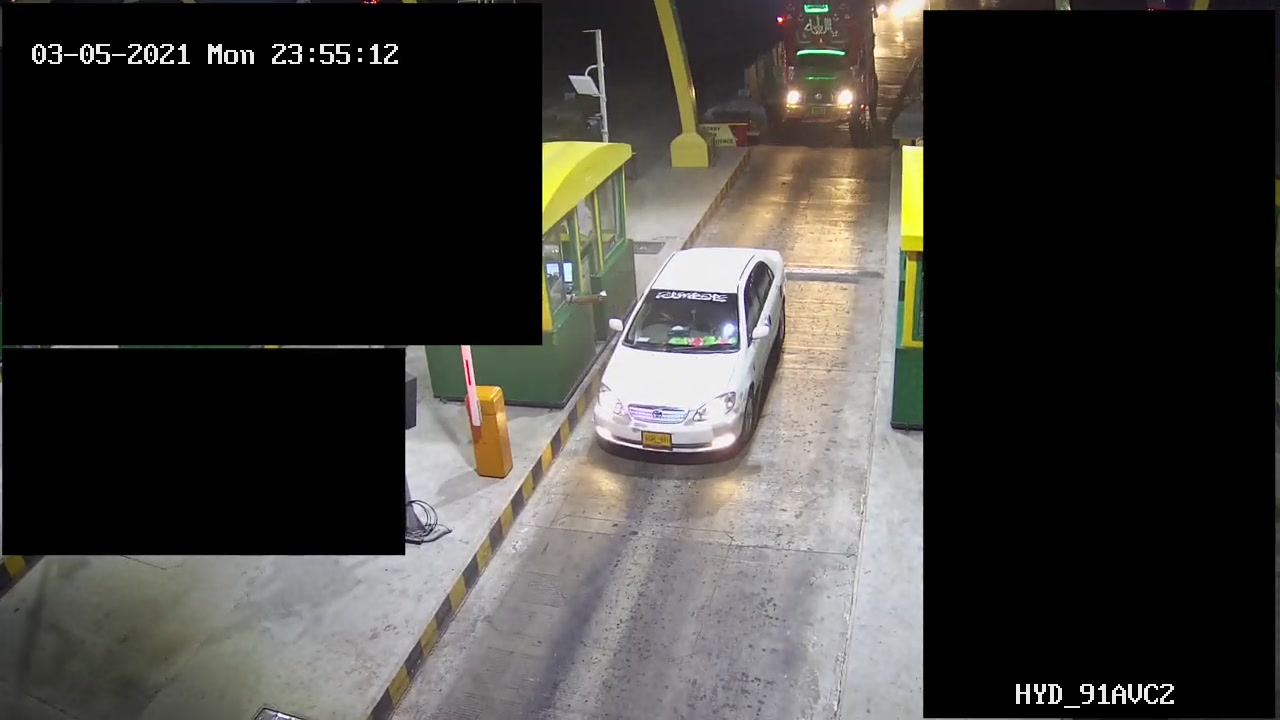F1: (583, 237, 795, 479)
